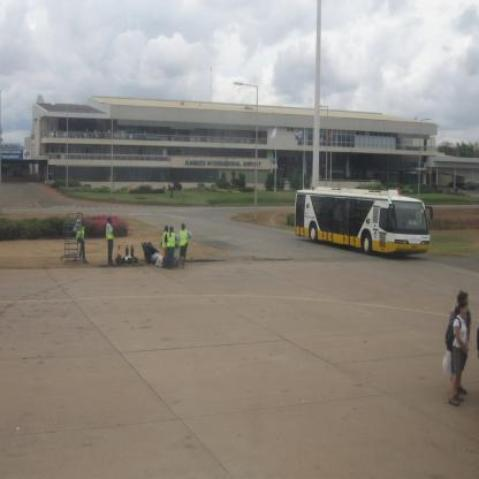bus: (290, 173, 438, 277)
